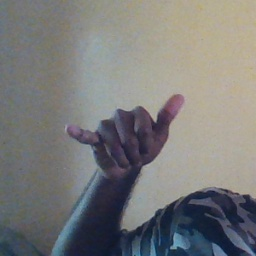J: (66, 83, 188, 186)
